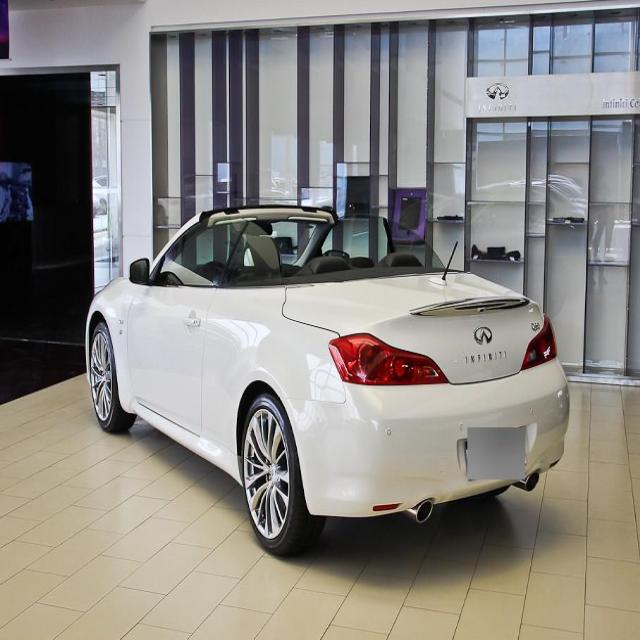back_left_side_light: (328, 332, 450, 386)
back_right_side_light: (517, 311, 559, 374)
front_glass: (157, 211, 334, 285)
front_left_side_door: (125, 210, 249, 440)
front_left_side_mirror: (128, 255, 150, 286)
rear_bumper: (283, 357, 571, 515)
wheel: (242, 392, 308, 555), (89, 320, 129, 435)
